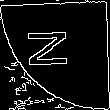N_E: (29, 34, 81, 76)
